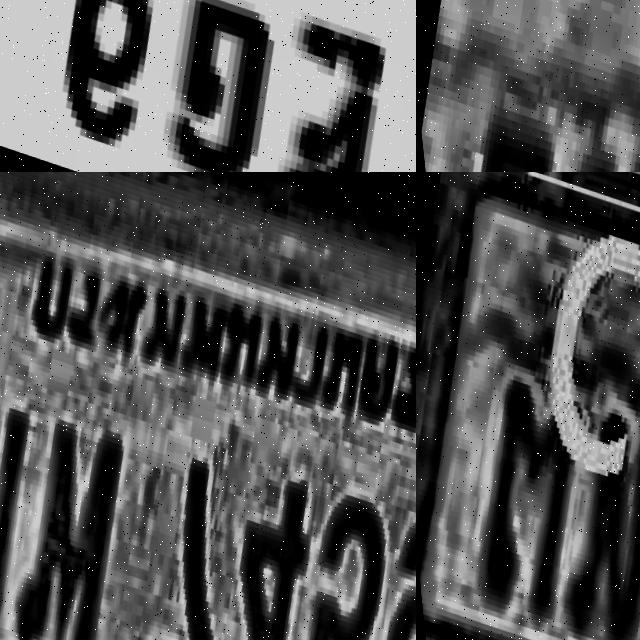license-plate: (0, 172, 416, 640), (416, 172, 640, 640), (0, 0, 416, 172), (416, 0, 640, 172)
